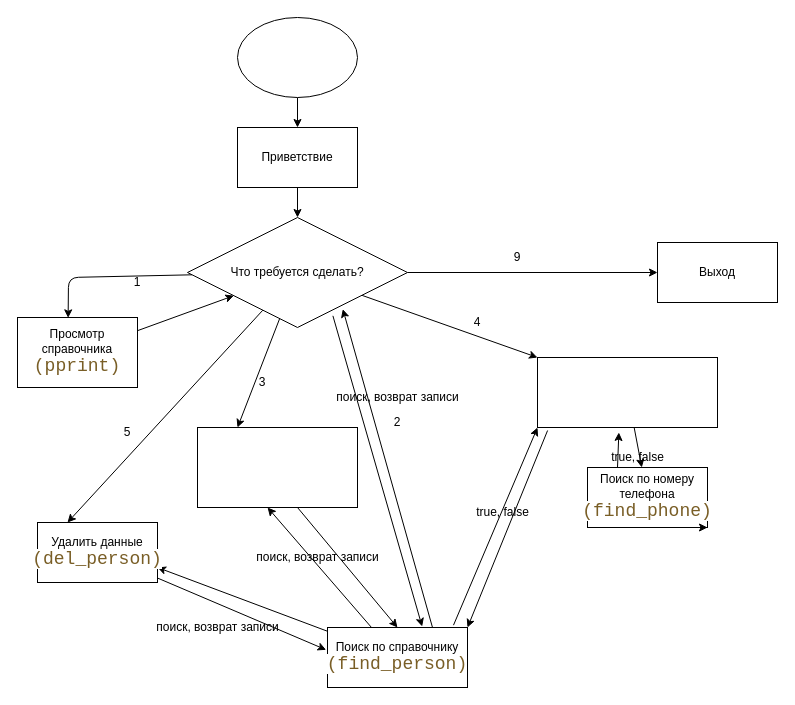
Some shapes in this 795 by 705 pixel diagram are drawn without their labels. The shapes that lost their labels are listed below. From the top down, each one's centre as x and y in pixels, then its label:
At [297,57]: "Начало".
At [627,392]: "Добавить данные ( add_person)".
At [277,467]: "Изменить данные ( edit_person)".
